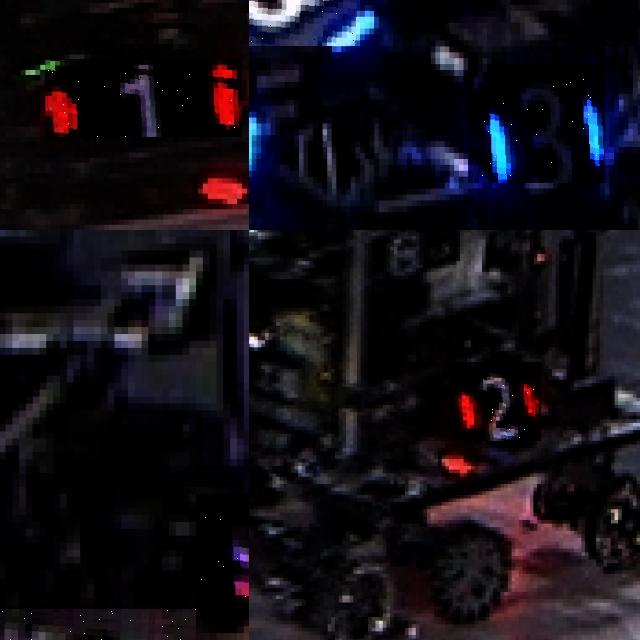B3: (468, 64, 605, 183), (249, 0, 360, 46)
R1: (45, 59, 242, 137), (196, 494, 249, 619), (0, 609, 196, 640)
R2: (449, 362, 541, 441)
